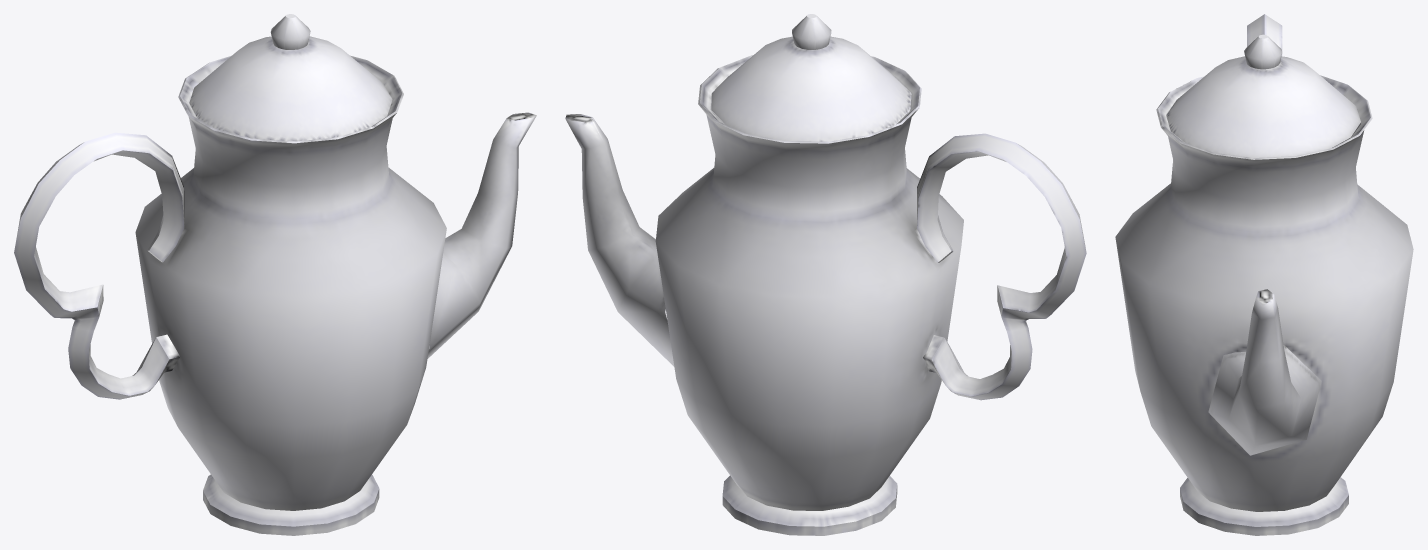
Rendered from TeaportA.FBX.
3 views of the same model, side by side, from view 1: azimuth 30°, elevation 25°; view 2: azimuth 150°, elevation 25°; view 3: azimuth 270°, elevation 25° (orthographic). The views are drawn at different scales.
Parts seen in each view (by area): view 1: TeaportA; view 2: TeaportA; view 3: TeaportA.
Boxes of the visible parts, <box> form: TeaportA: <box>14,14,536,535</box>; TeaportA: <box>565,14,1086,535</box>; TeaportA: <box>1115,14,1413,535</box>.
Size of the model in its own units: 30.75 by 27.22 by 15.89.
